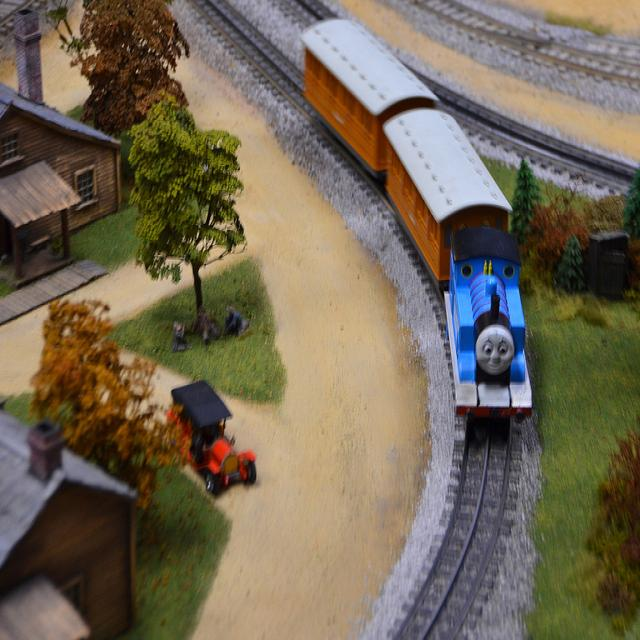Vehicle: (166, 377, 257, 497), (166, 379, 256, 499)
